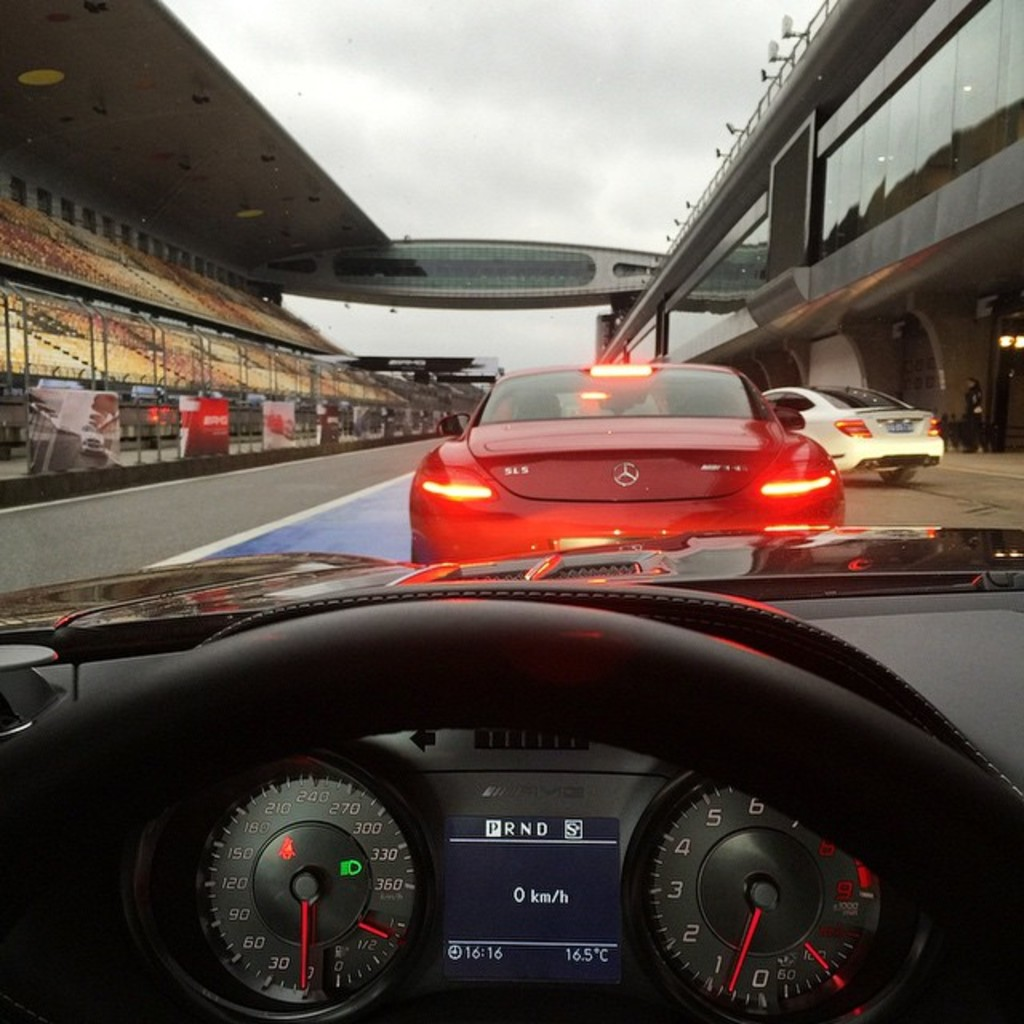Wheel: (0, 608, 1022, 936), (878, 466, 917, 486)
